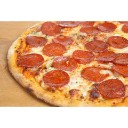pepperonipizza: (7, 18, 128, 106)
